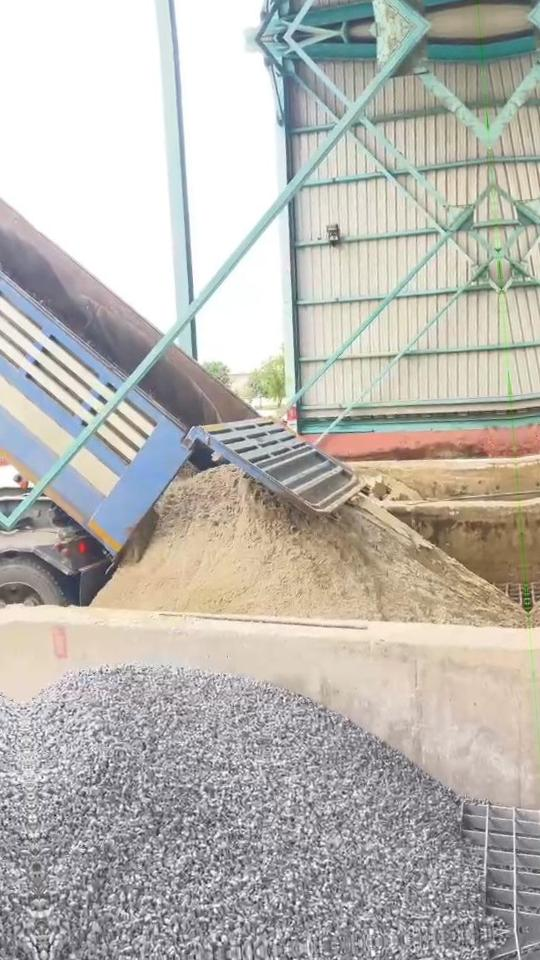gravel: (25, 666, 493, 960)
sand: (95, 466, 526, 626), (364, 472, 421, 501)
